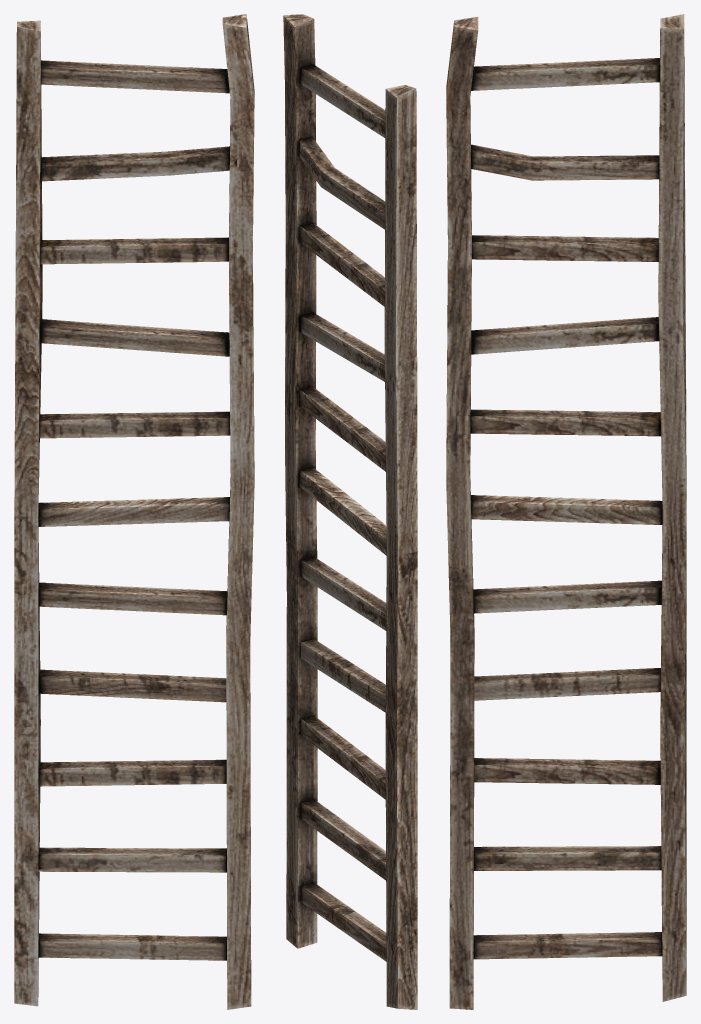
Rendered from ladder_grab.dae.
3 renders of one model, left to right at view 1: azimuth 90°, elevation 25°; view 2: azimuth 210°, elevation 25°; view 3: azimuth 270°, elevation 25°, orthographic. The views are drawn at different scales.
Visible parts, largest first — view 1: ladder_moveable_movea; view 2: ladder_moveable_movea; view 3: ladder_moveable_movea.
Boxes of the visible parts, box(x1,y1,x2,y2) form: ladder_moveable_movea: box(14, 14, 254, 1009); ladder_moveable_movea: box(283, 14, 417, 1009); ladder_moveable_movea: box(446, 14, 686, 1009).
Bounding box in the file's own units: 0.1268 × 1 × 4.52.
Materials: 1 (1 with a texture image).
